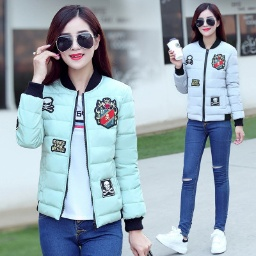face: (47, 3, 108, 80), (192, 2, 226, 41)
